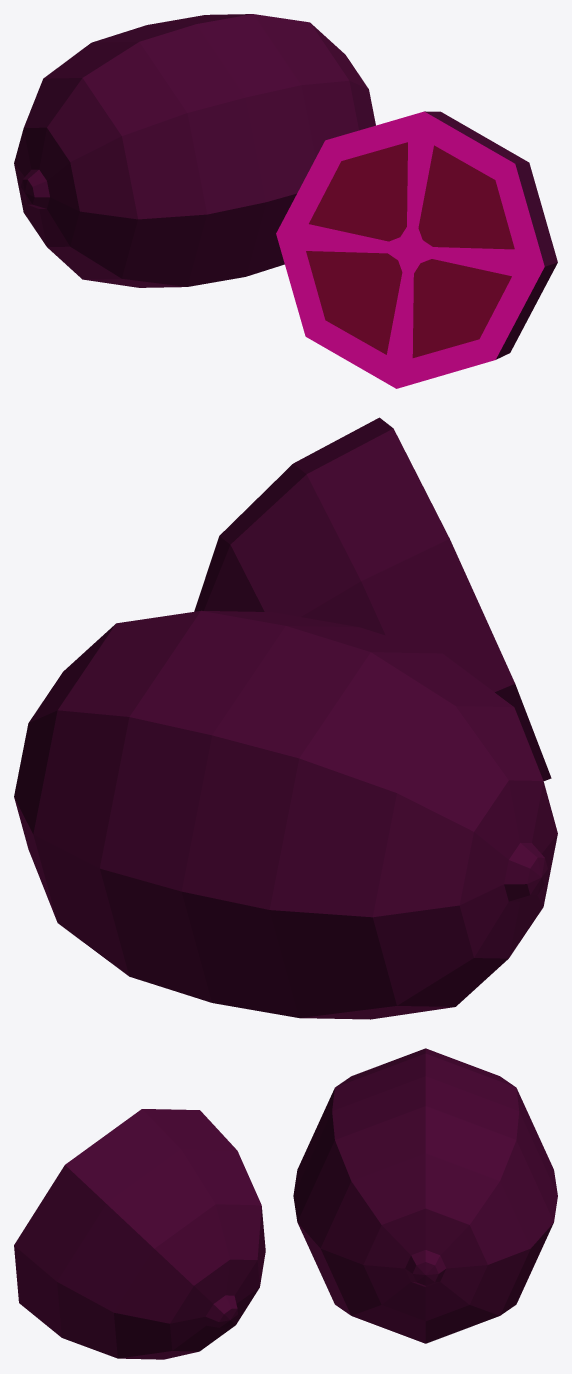
The model's file is Lime_01.fbx.
The picture shows the model from 3 angles, top to bottom: view 1: azimuth 30°, elevation 25°; view 2: azimuth 150°, elevation 25°; view 3: azimuth 270°, elevation 25°; orthographic projection. The views are drawn at different scales.
Visible parts, largest first — view 1: Lime_01; view 2: Lime_01; view 3: Lime_01.
Boxes of the visible parts, x1=… form: Lime_01: x1=14, y1=14, x2=557, y2=388; Lime_01: x1=14, y1=417, x2=557, y2=1019; Lime_01: x1=14, y1=1048, x2=557, y2=1359.
Bounding box in the file's own units: 4.89 × 3.32 × 6.74.
